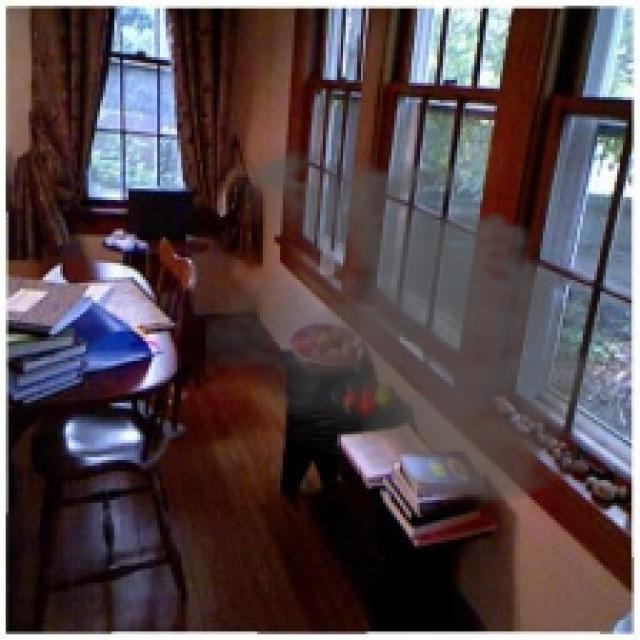Smoke: (205, 137, 626, 512)
